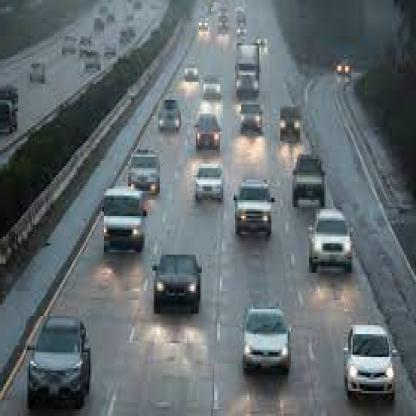car: (25, 317, 93, 412), (342, 326, 401, 401), (307, 208, 354, 276), (242, 308, 292, 371), (152, 256, 203, 317), (104, 190, 149, 256), (292, 149, 329, 210), (233, 181, 272, 238), (131, 154, 161, 197), (197, 165, 226, 203), (197, 113, 223, 154), (280, 106, 304, 144), (241, 106, 268, 135), (158, 101, 182, 131), (31, 58, 48, 87), (203, 76, 221, 101), (61, 37, 78, 58), (185, 65, 201, 85), (86, 53, 101, 74)
container: (236, 46, 260, 101)
